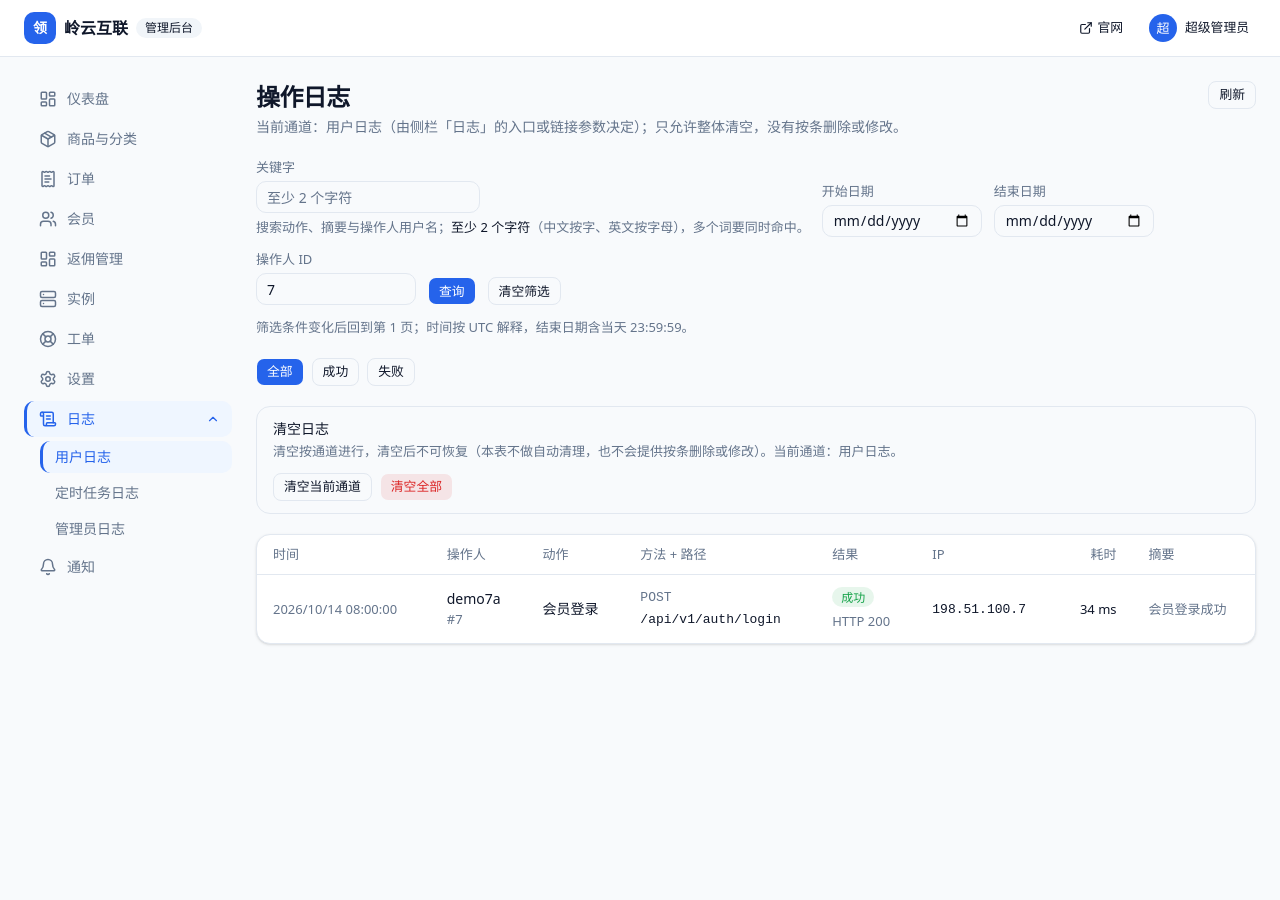
Test: 管理后台 · 操作日志 › 清空筛选：清掉关键字/时间/结果/操作人并重新请求
Check: the heading "操作日志" is shown, box 256,80 -> 350,113
Type "会员登录" into the field labelled "关键字" at (368, 197), box 256,181 -> 480,213
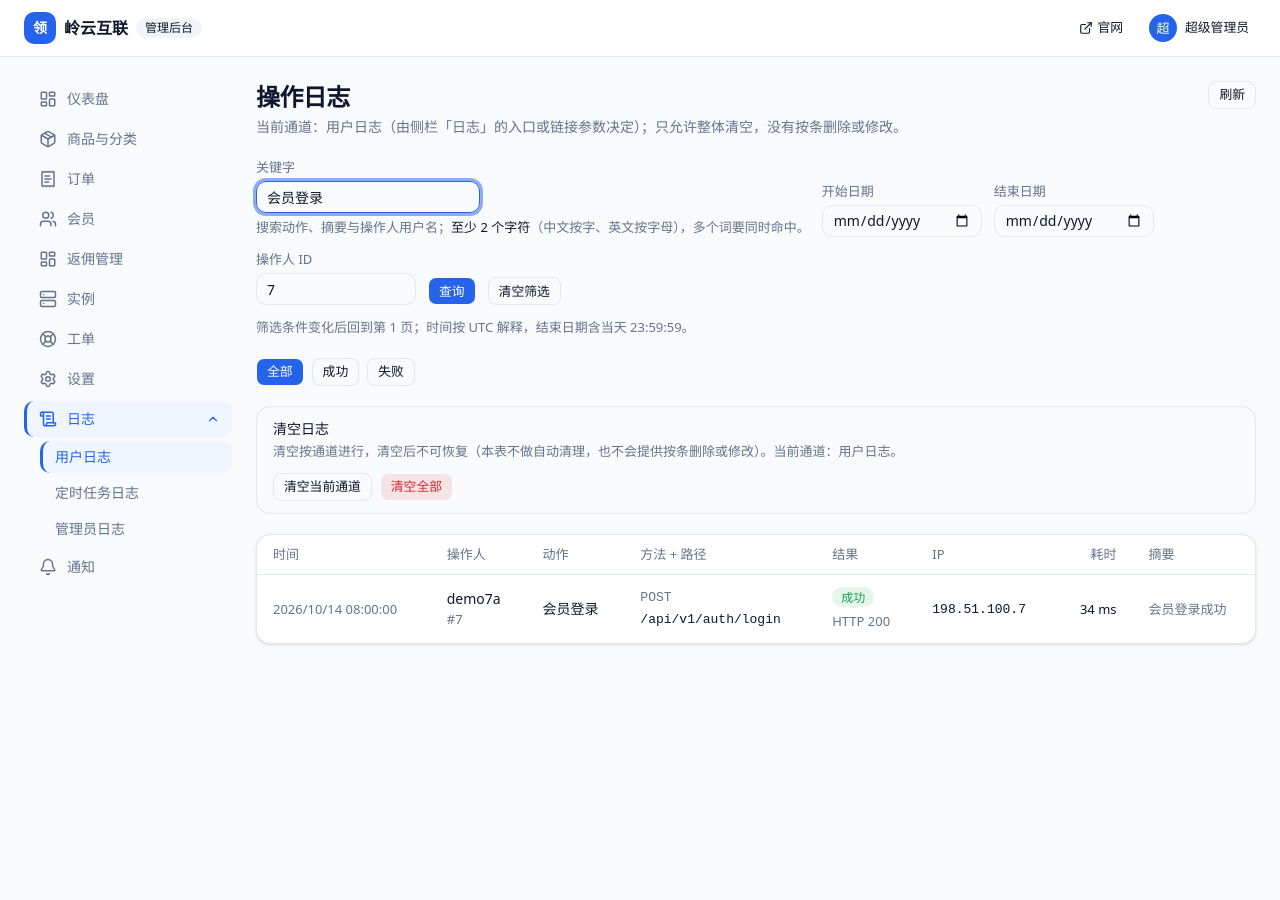
Click the button "查询" at (452, 291), box 428,277 -> 476,305
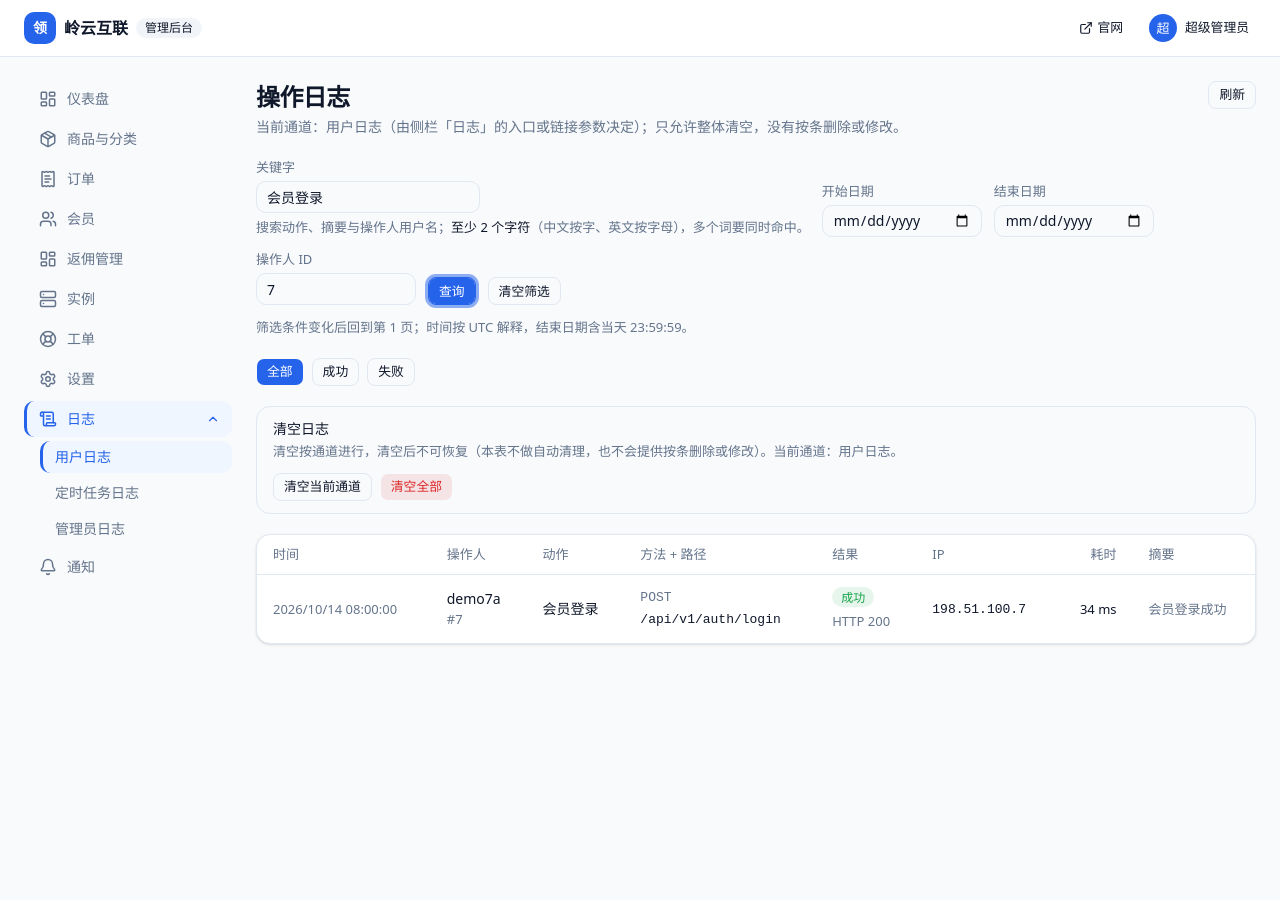
Click the button "清空筛选" at (524, 291), box 488,277 -> 561,305
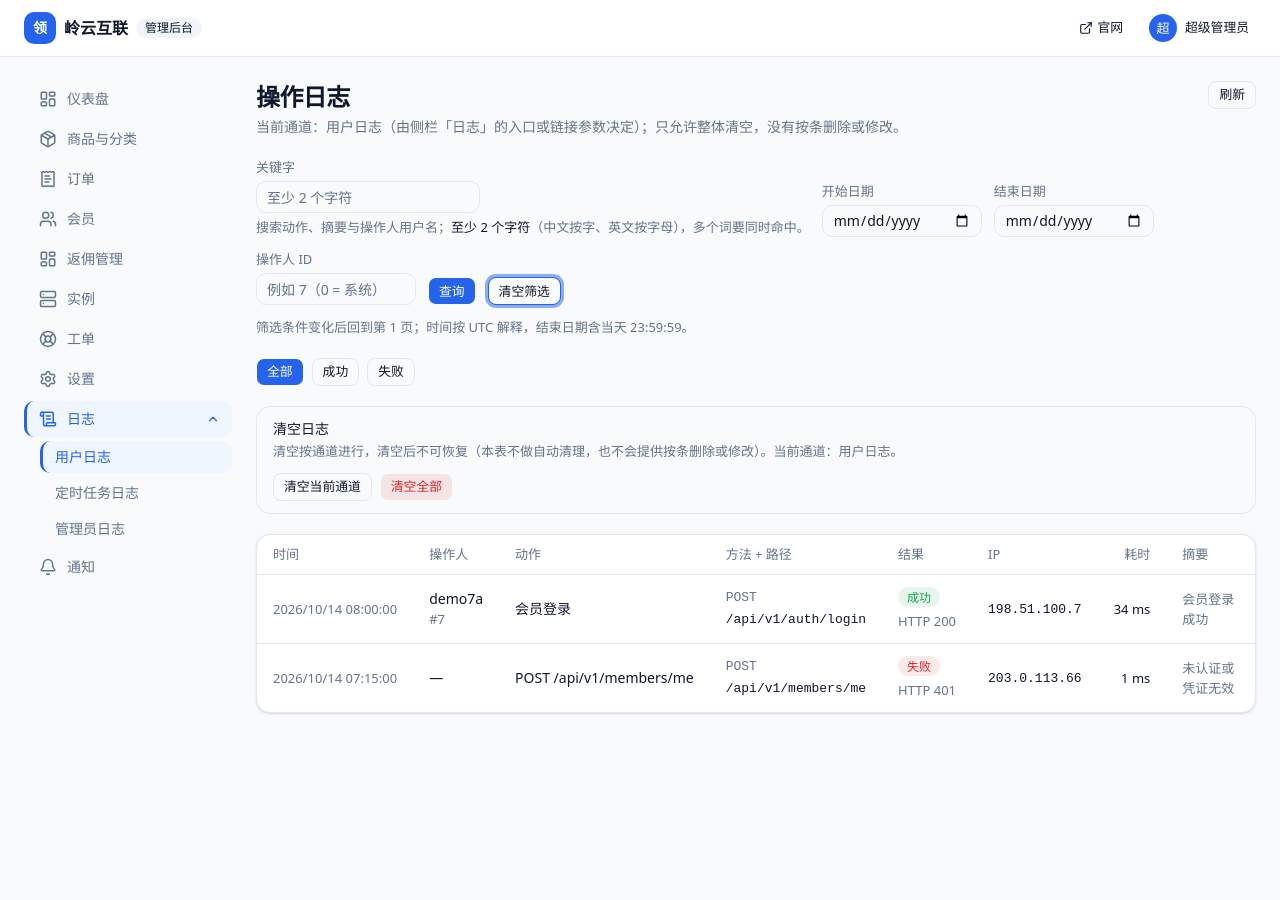
Check: the field labelled "关键字" is empty, box 256,181 -> 480,213
Check: the field labelled "操作人 ID" is empty, box 256,273 -> 416,305
